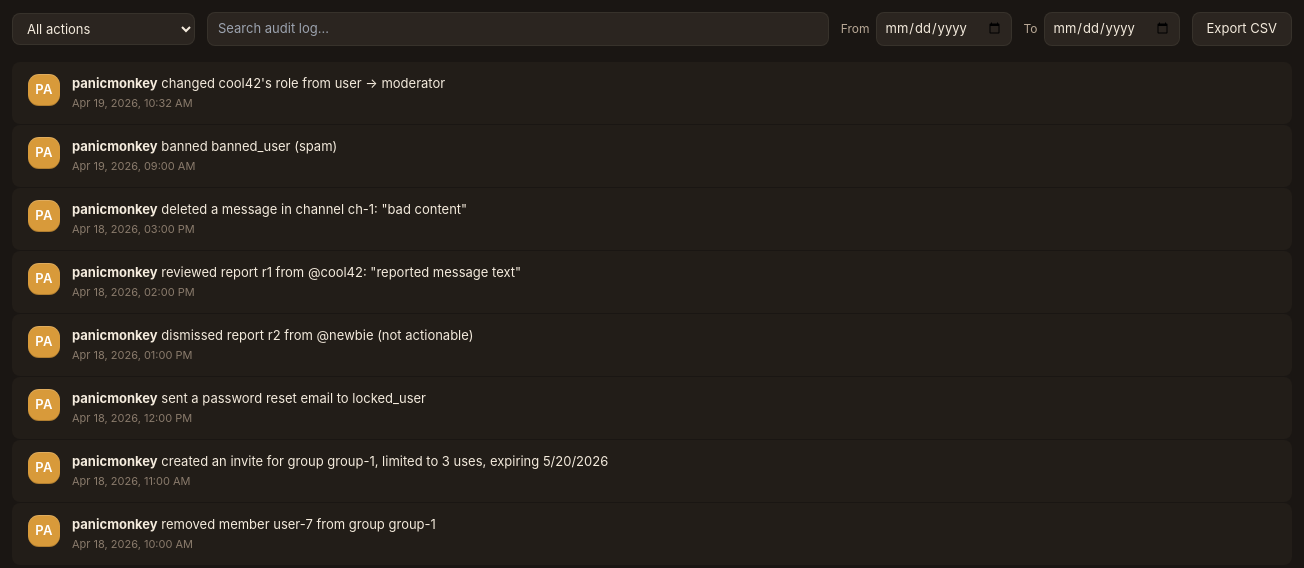
AuditLogList — filtering › filters entries by password reset action type
Select "Password Reset" in the dropdown with test id "audit-filter-action" at (104, 29), box [12,13,195,45]
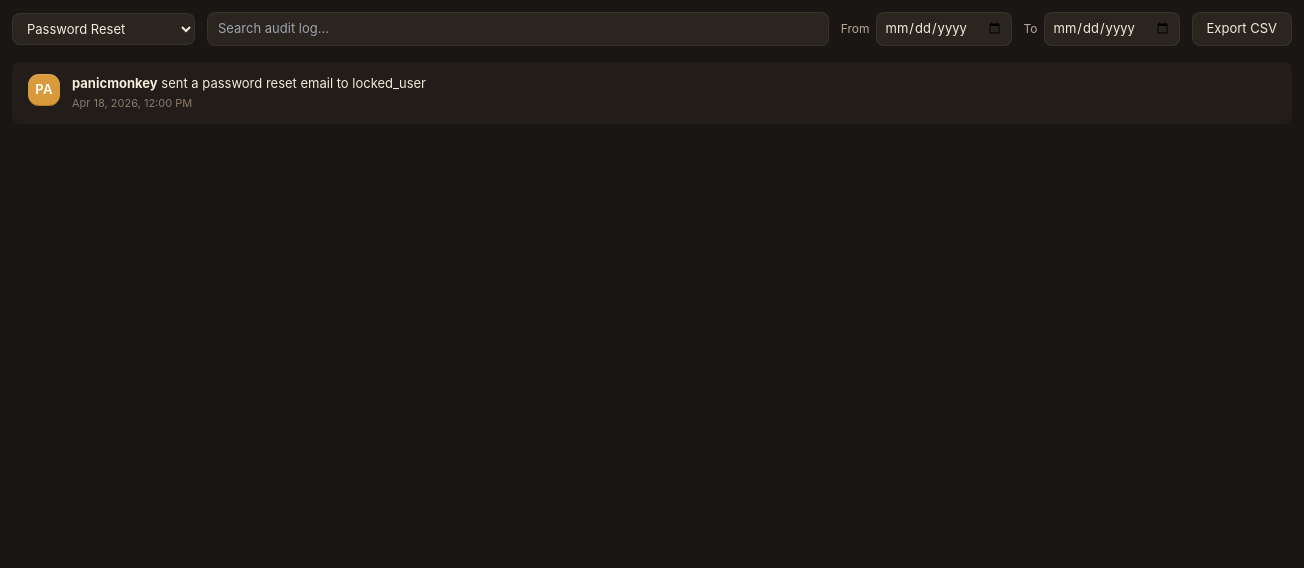
Expected: the text "panicmonkey sent a password reset email to locked_user" is shown, [72,74,426,90]
Now the number of elements with class "audit-entry" is 1, box [12,62,1292,124]
